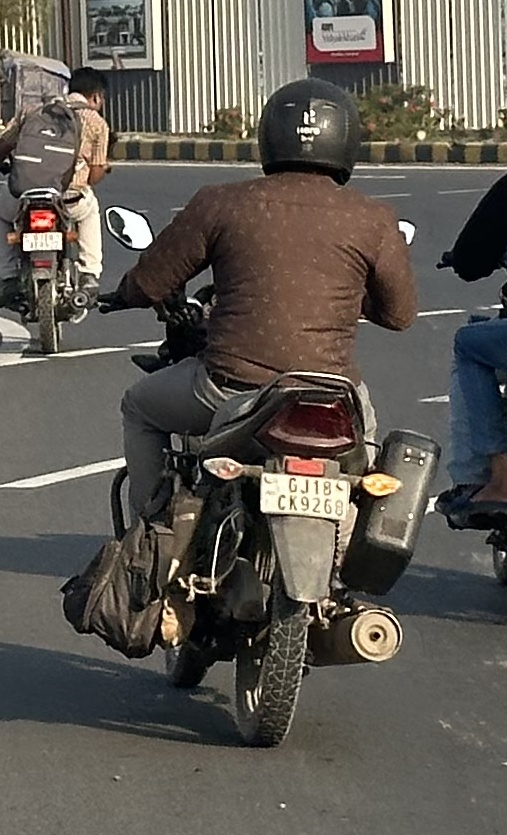BikeWithRider: (61, 75, 445, 749), (0, 66, 113, 356)
Helmet: (255, 78, 364, 190)
NoHelmet: (62, 65, 112, 114)
